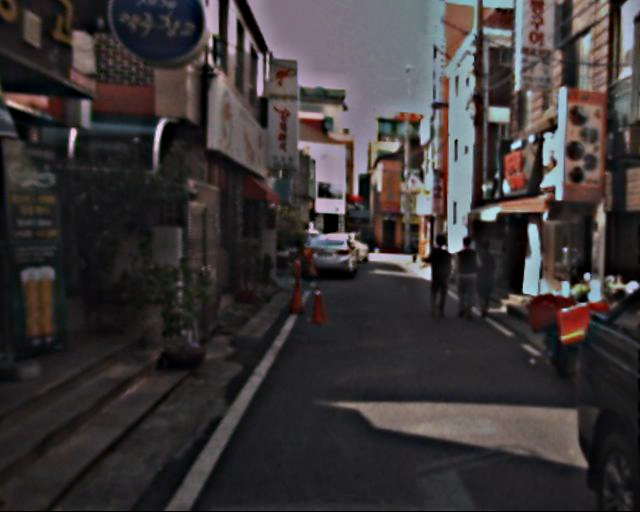person: (451, 234, 487, 321), (470, 234, 505, 320), (423, 235, 457, 319)
